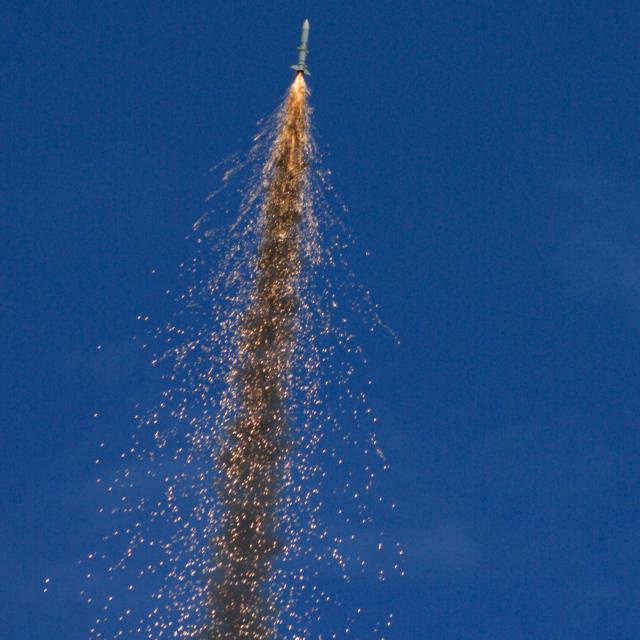Rocket: (290, 19, 311, 76)
